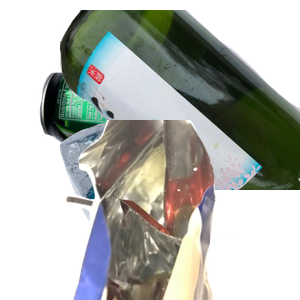glass: (60, 10, 300, 190)
metal: (37, 64, 245, 214)
plastic: (57, 120, 284, 300)
trash: (63, 120, 300, 300)
